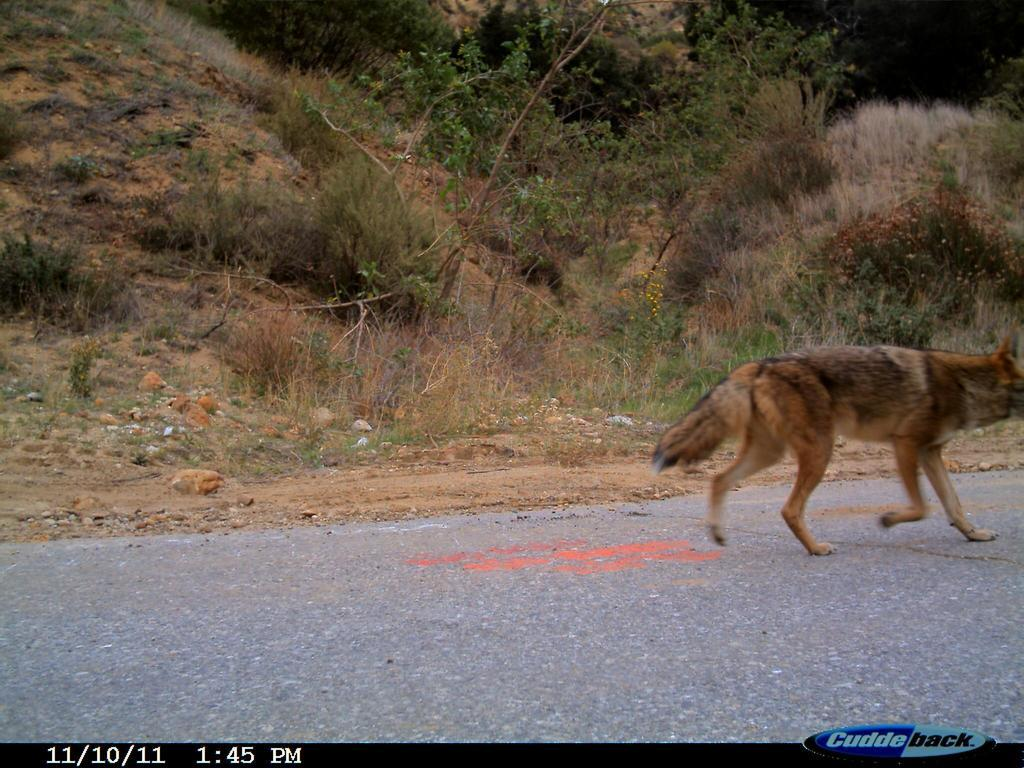coyote: (647, 328, 1022, 565)
